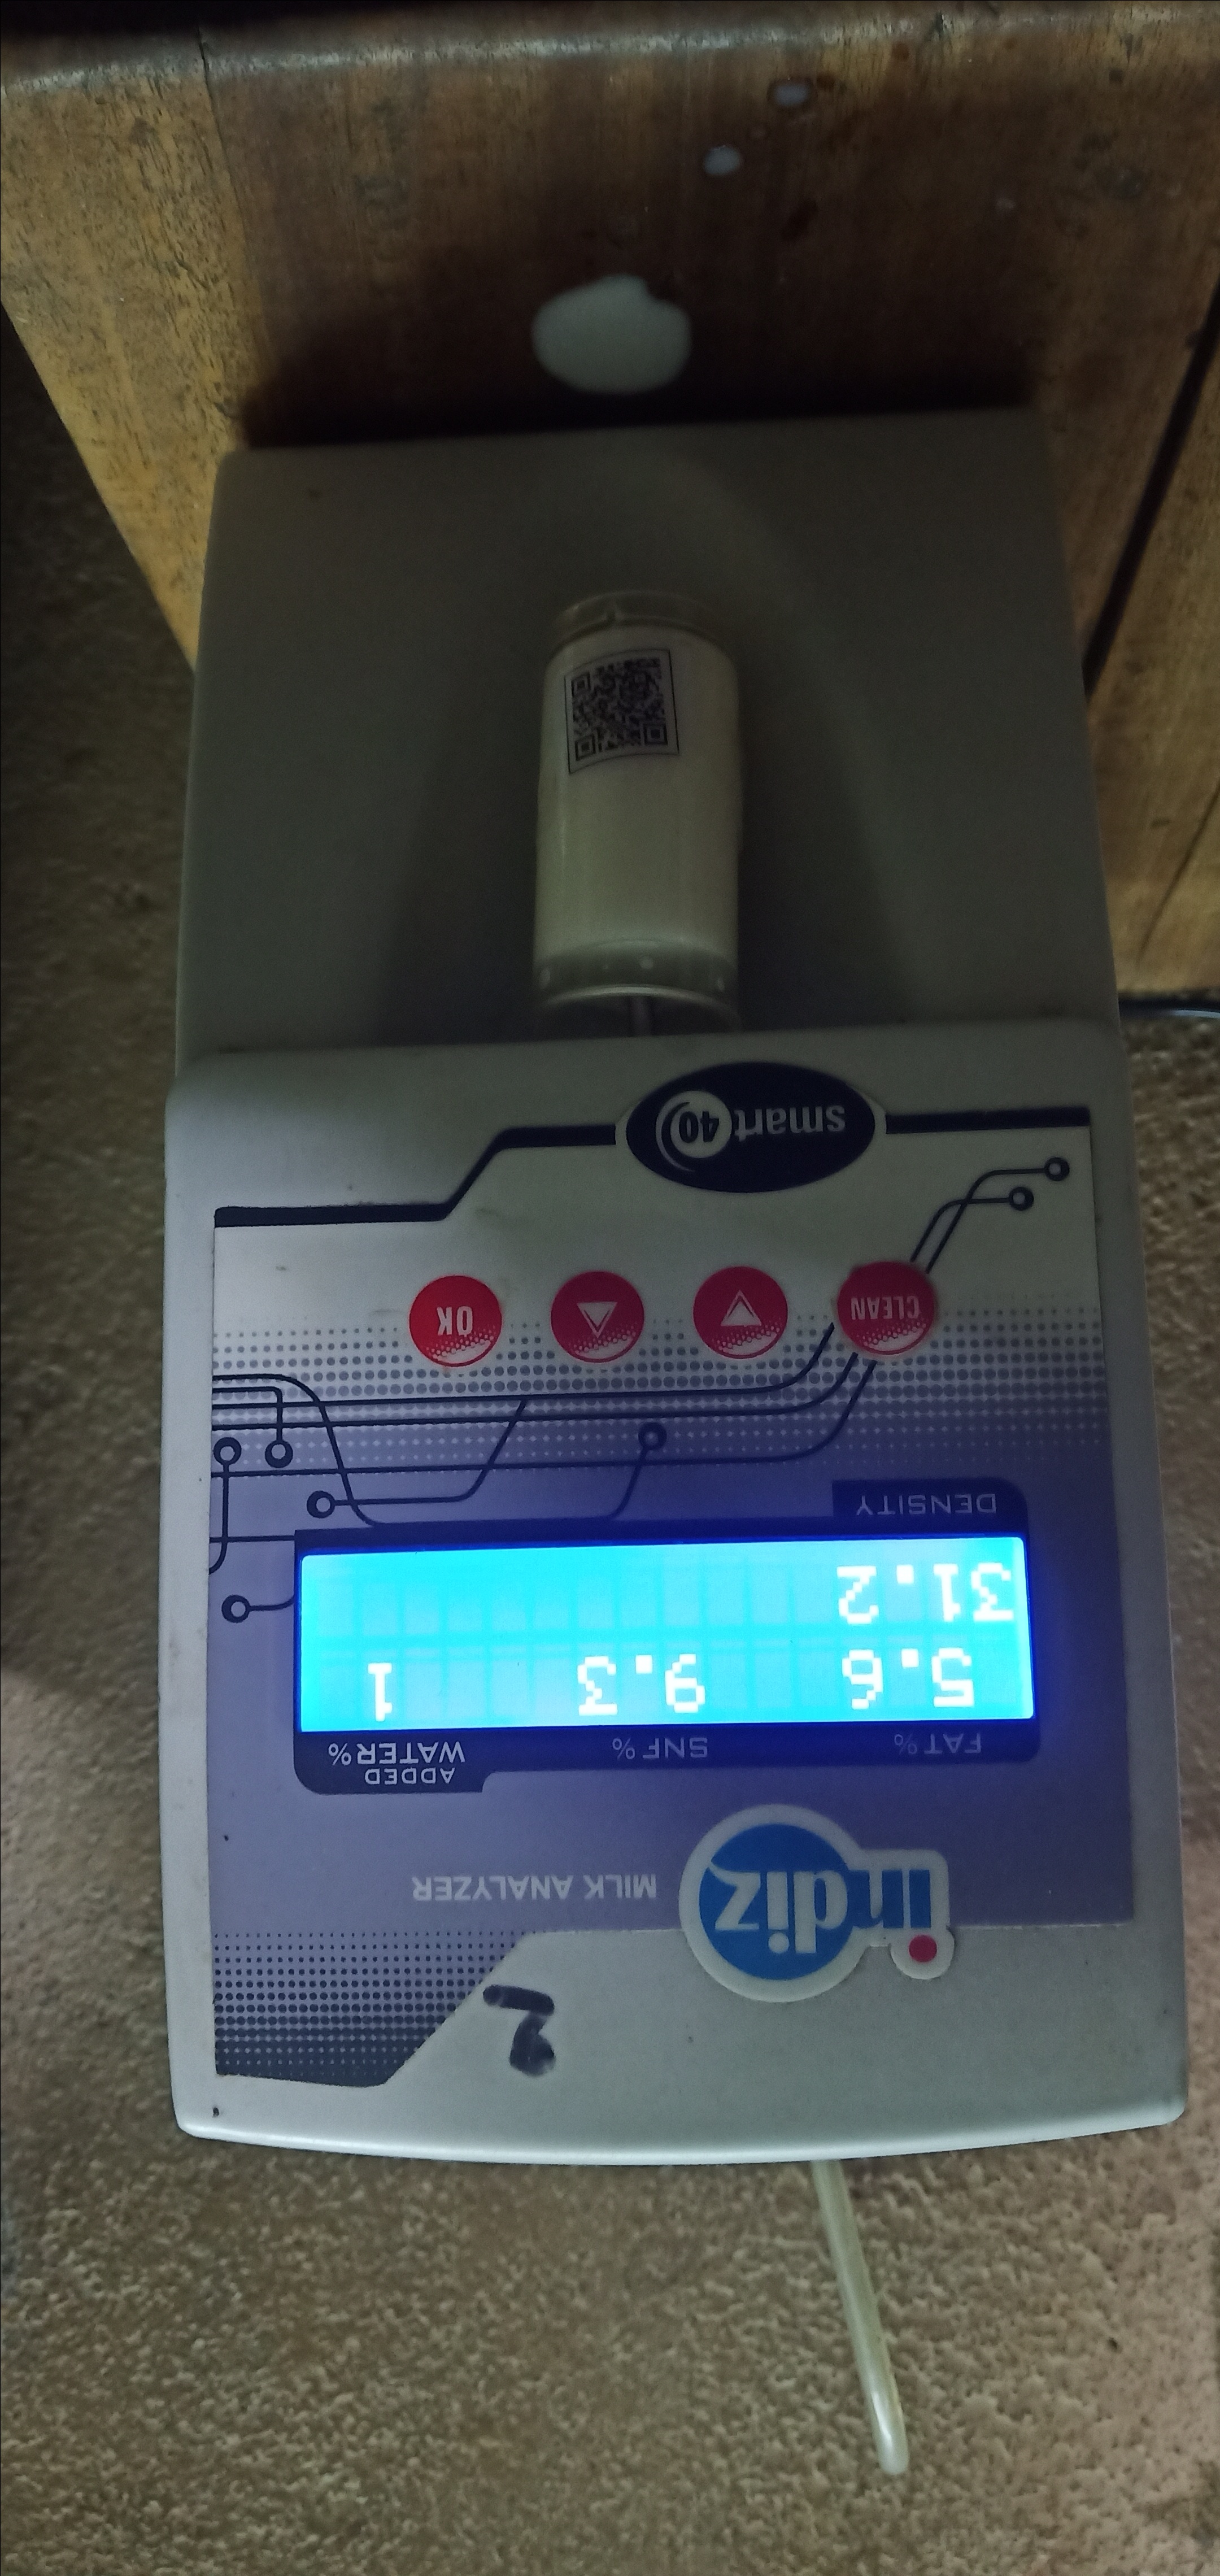lcd: (284, 1488, 1043, 1812)
qr: (547, 629, 704, 784)
